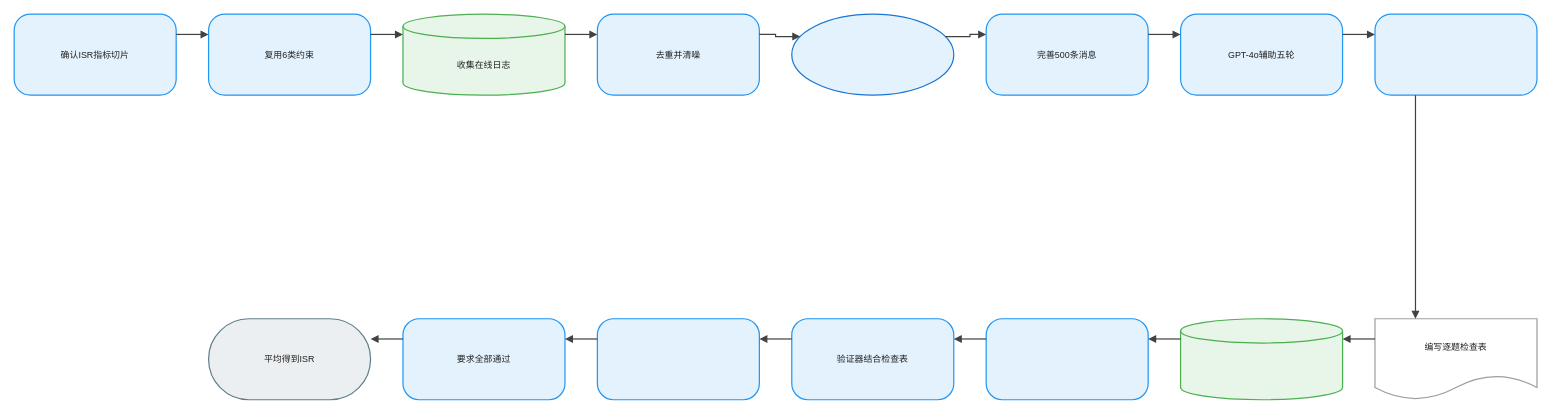
Some shapes in this 1552 by 415 pixel diagram are drawn without their labels. Each missing label, with the box of its shape:
21名标注者筛选: (791, 13, 954, 95)
二元判断约束: (596, 318, 760, 400)
冻结500会话2500轮: (1180, 318, 1343, 400)
标注交互关系: (1374, 13, 1537, 95)
运行目标模型: (985, 318, 1148, 400)
